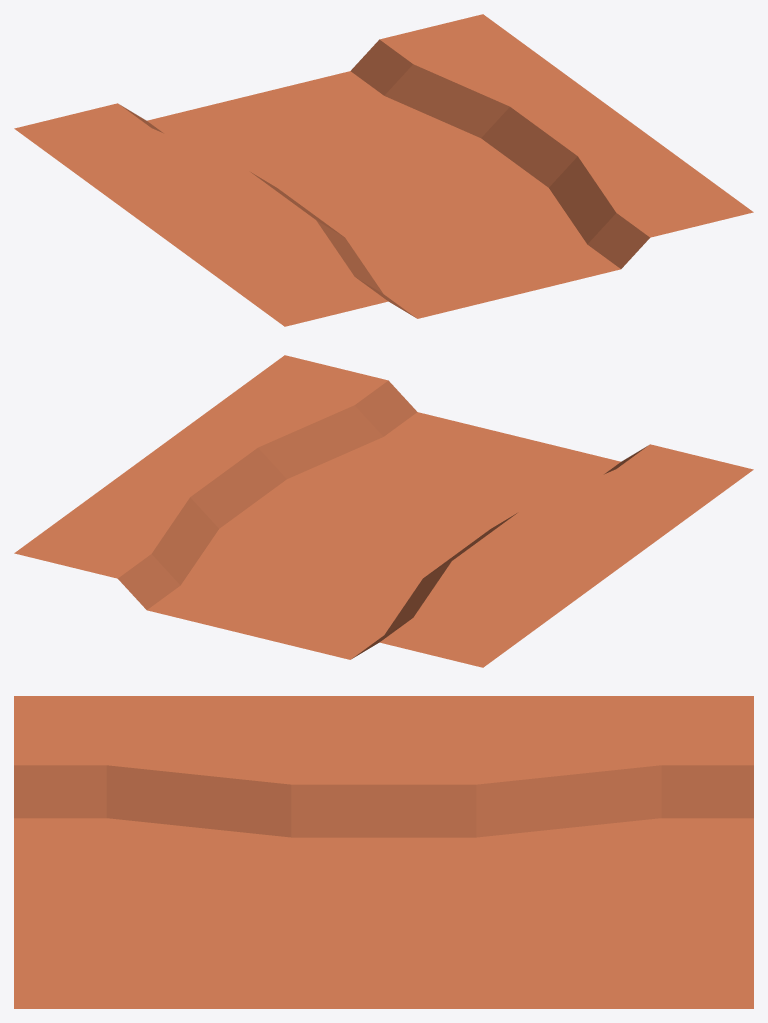
The model's file is ground_pathStraight_lane.fbx.
3 views of the same model, one above another, from view 1: azimuth 30°, elevation 25°; view 2: azimuth 150°, elevation 25°; view 3: azimuth 270°, elevation 25° (orthographic). The views are drawn at different scales.
Visible parts, largest first — view 1: ground_pathStraight; view 2: ground_pathStraight; view 3: ground_pathStraight.
Boxes of the visible parts, x1,y1,x2,y2 form: ground_pathStraight: [14, 14, 753, 326]; ground_pathStraight: [14, 355, 753, 667]; ground_pathStraight: [14, 696, 753, 1008].
Bounding box in the file's own units: 10 × 0.5 × 10.
